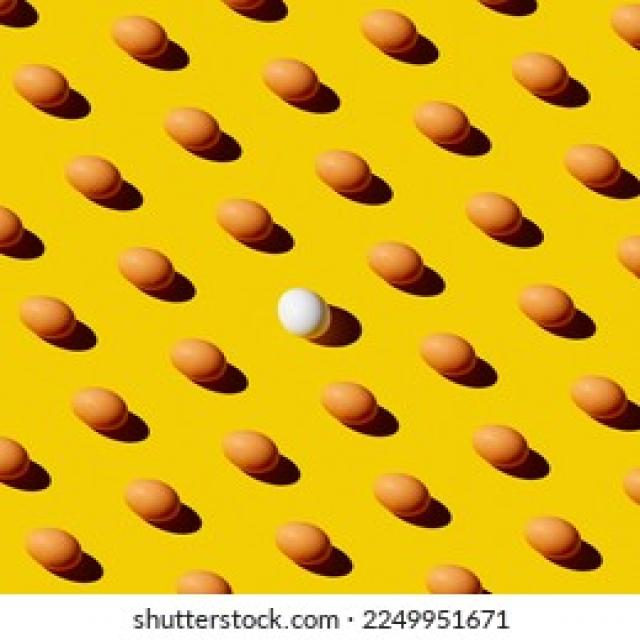Brown Egg: (457, 411, 532, 474), (68, 383, 136, 441), (155, 106, 231, 154), (524, 508, 588, 565), (218, 426, 286, 479), (411, 100, 481, 151), (120, 474, 186, 528), (412, 328, 482, 378), (514, 280, 578, 334), (562, 138, 623, 194), (259, 54, 322, 108), (271, 518, 336, 569), (16, 290, 78, 343), (63, 150, 126, 201), (25, 522, 83, 576), (372, 467, 432, 519), (109, 12, 170, 63), (566, 372, 628, 422), (322, 374, 378, 429), (462, 187, 524, 236), (361, 238, 424, 286), (512, 50, 572, 100), (170, 333, 229, 382), (14, 62, 72, 111), (313, 148, 373, 195), (111, 244, 171, 291), (212, 196, 271, 243), (360, 7, 418, 54), (0, 428, 35, 498), (420, 560, 488, 596), (0, 202, 28, 258), (617, 3, 640, 53)
White Egg: (274, 285, 331, 344)
